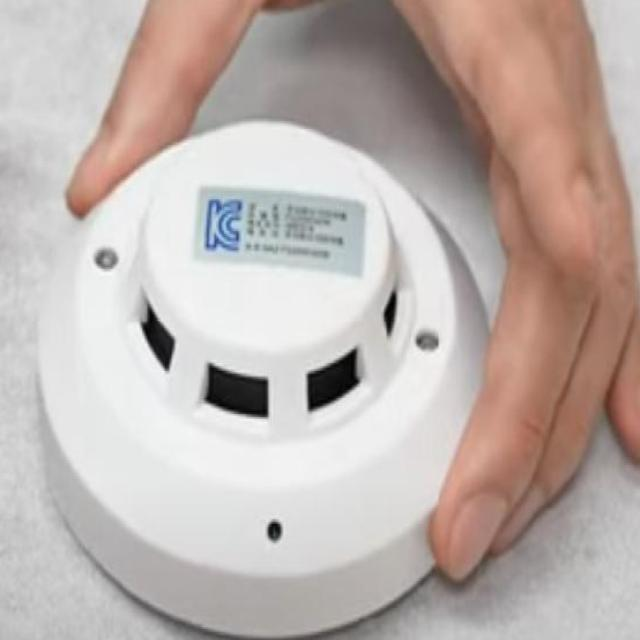hidden camera: (265, 516, 284, 543)
